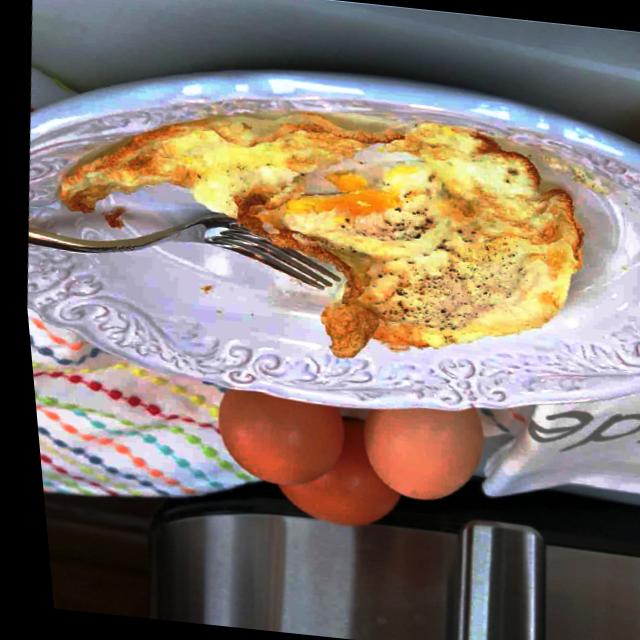fried_eggs: (39, 92, 599, 381)
